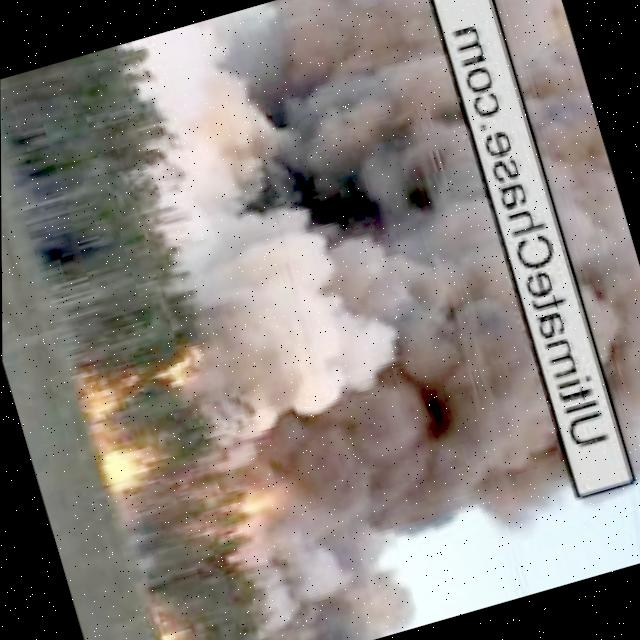Fire: (76, 349, 213, 496), (228, 478, 289, 522), (152, 613, 198, 640)
Smoke: (121, 0, 578, 592), (483, 0, 640, 483)
